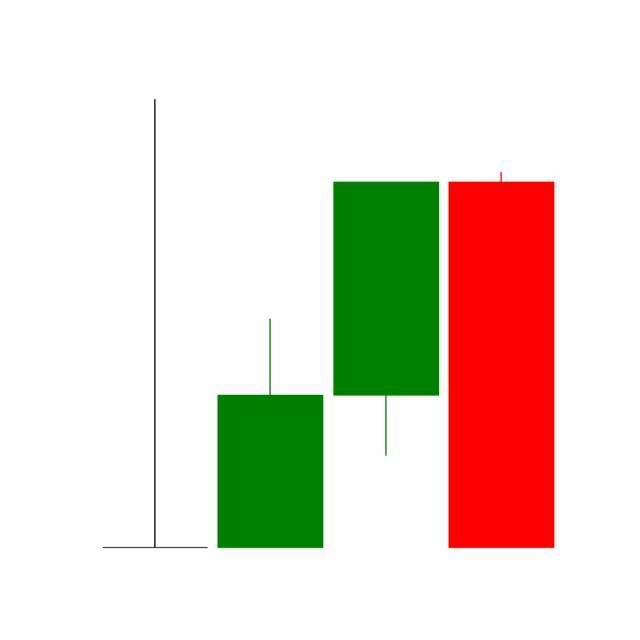Marubozu: (444, 169, 560, 553)
